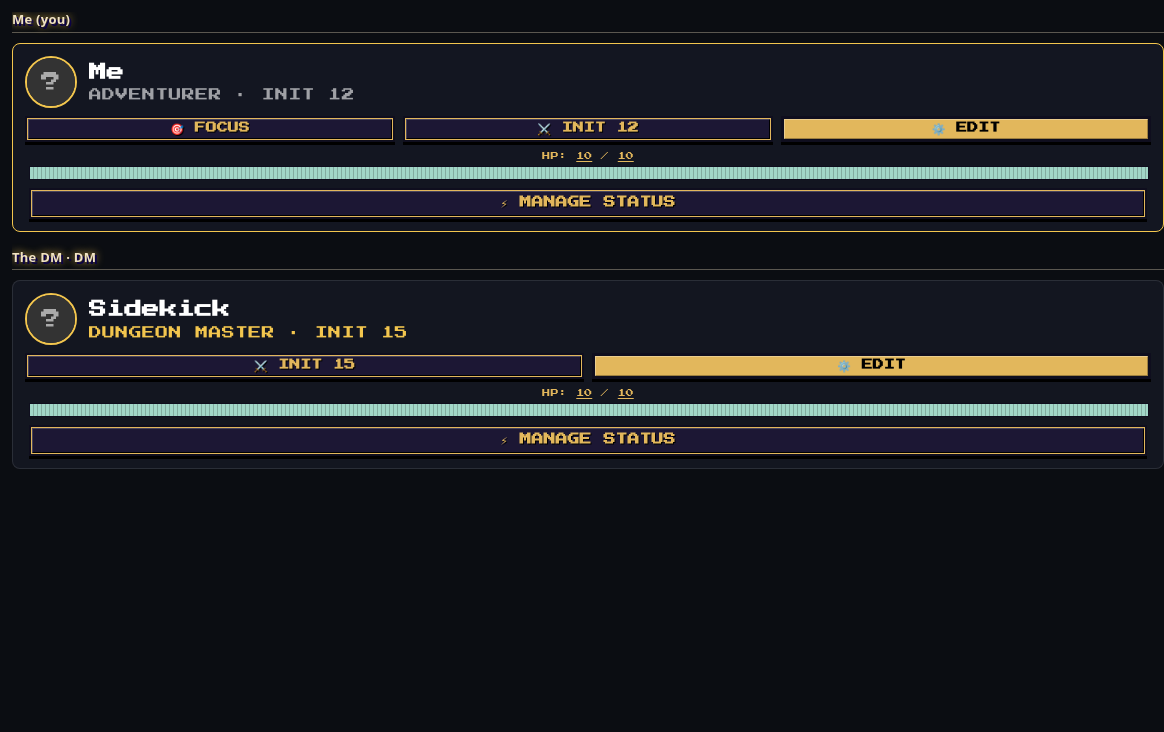
Test: movement budget reset — the plate's own gate, and the character binding › a DM-OWNED character in the order is a combatant (F3): its row carries the reset like a player's
The image size is (1164, 732).
Click the button "⚙️ EDIT" below "· Init 15": [872, 366] box [592,353,1151,379]
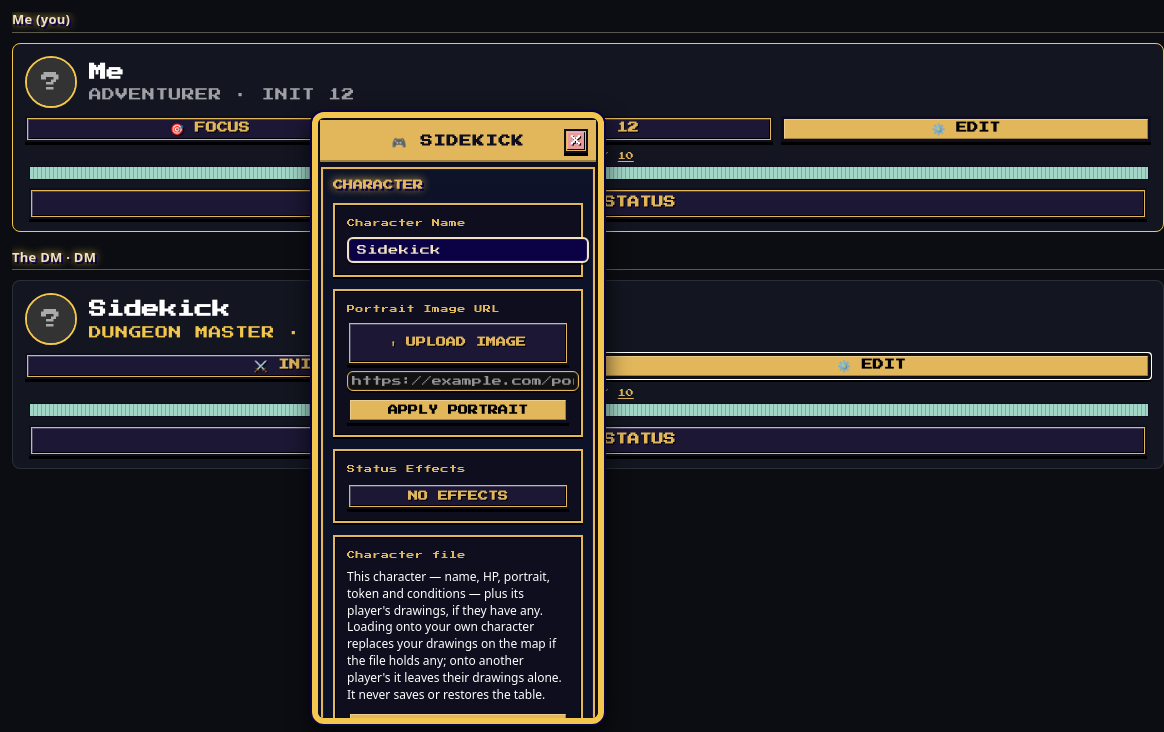
Click the 1st button "⚙️ EDIT": [966, 129] box [781,116,1151,142]
(page scrolled)
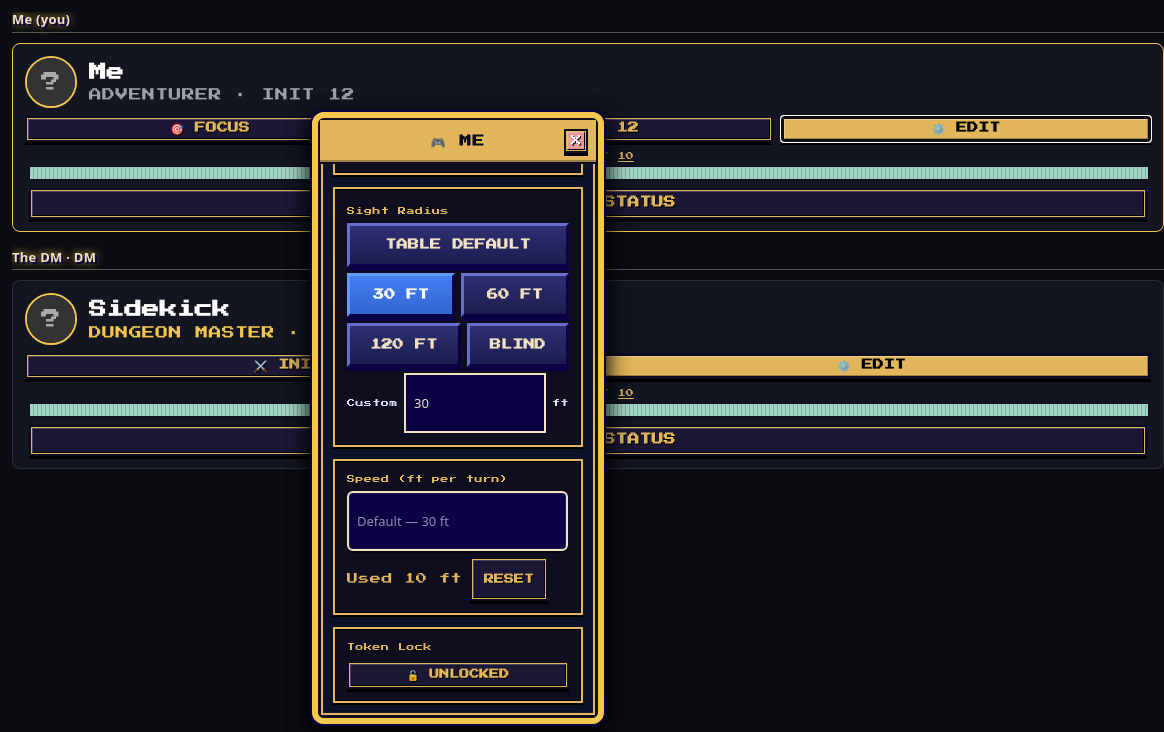
Expected: the text "Used 10 ft" is shown, [347,571,462,587]
Expected: the number of buttons "Reset movement budget" is 2
